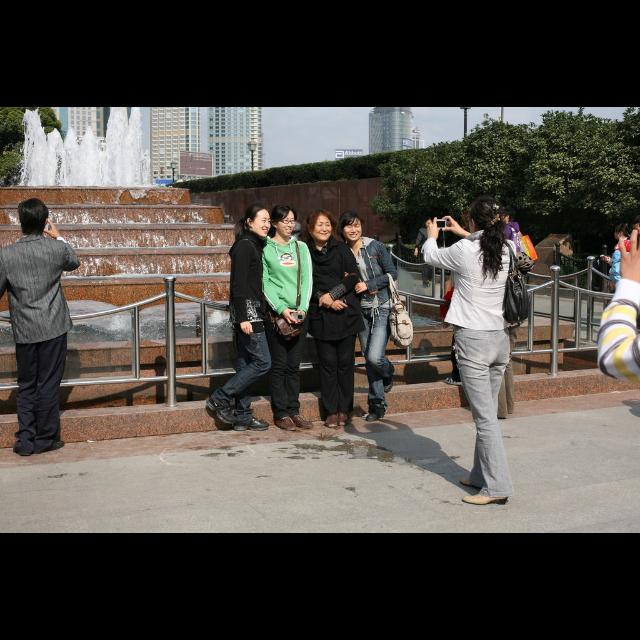head: (468, 197, 506, 239), (244, 204, 272, 240), (306, 210, 334, 244), (270, 205, 298, 239), (19, 200, 49, 230), (340, 212, 362, 242), (462, 210, 482, 238), (483, 210, 501, 230), (500, 206, 516, 224), (614, 224, 628, 240), (424, 218, 434, 230)
person: (418, 197, 528, 508), (0, 193, 82, 462), (333, 209, 417, 425), (292, 207, 370, 433), (203, 202, 275, 434), (256, 200, 318, 434), (474, 204, 536, 426), (443, 208, 487, 388), (598, 222, 636, 340), (496, 203, 522, 317), (413, 217, 442, 290)
